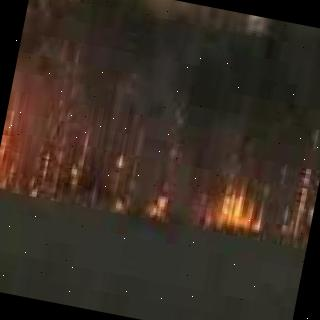fire: (10, 124, 144, 224), (0, 0, 39, 193), (198, 182, 272, 236), (283, 167, 320, 247), (148, 190, 171, 224)
